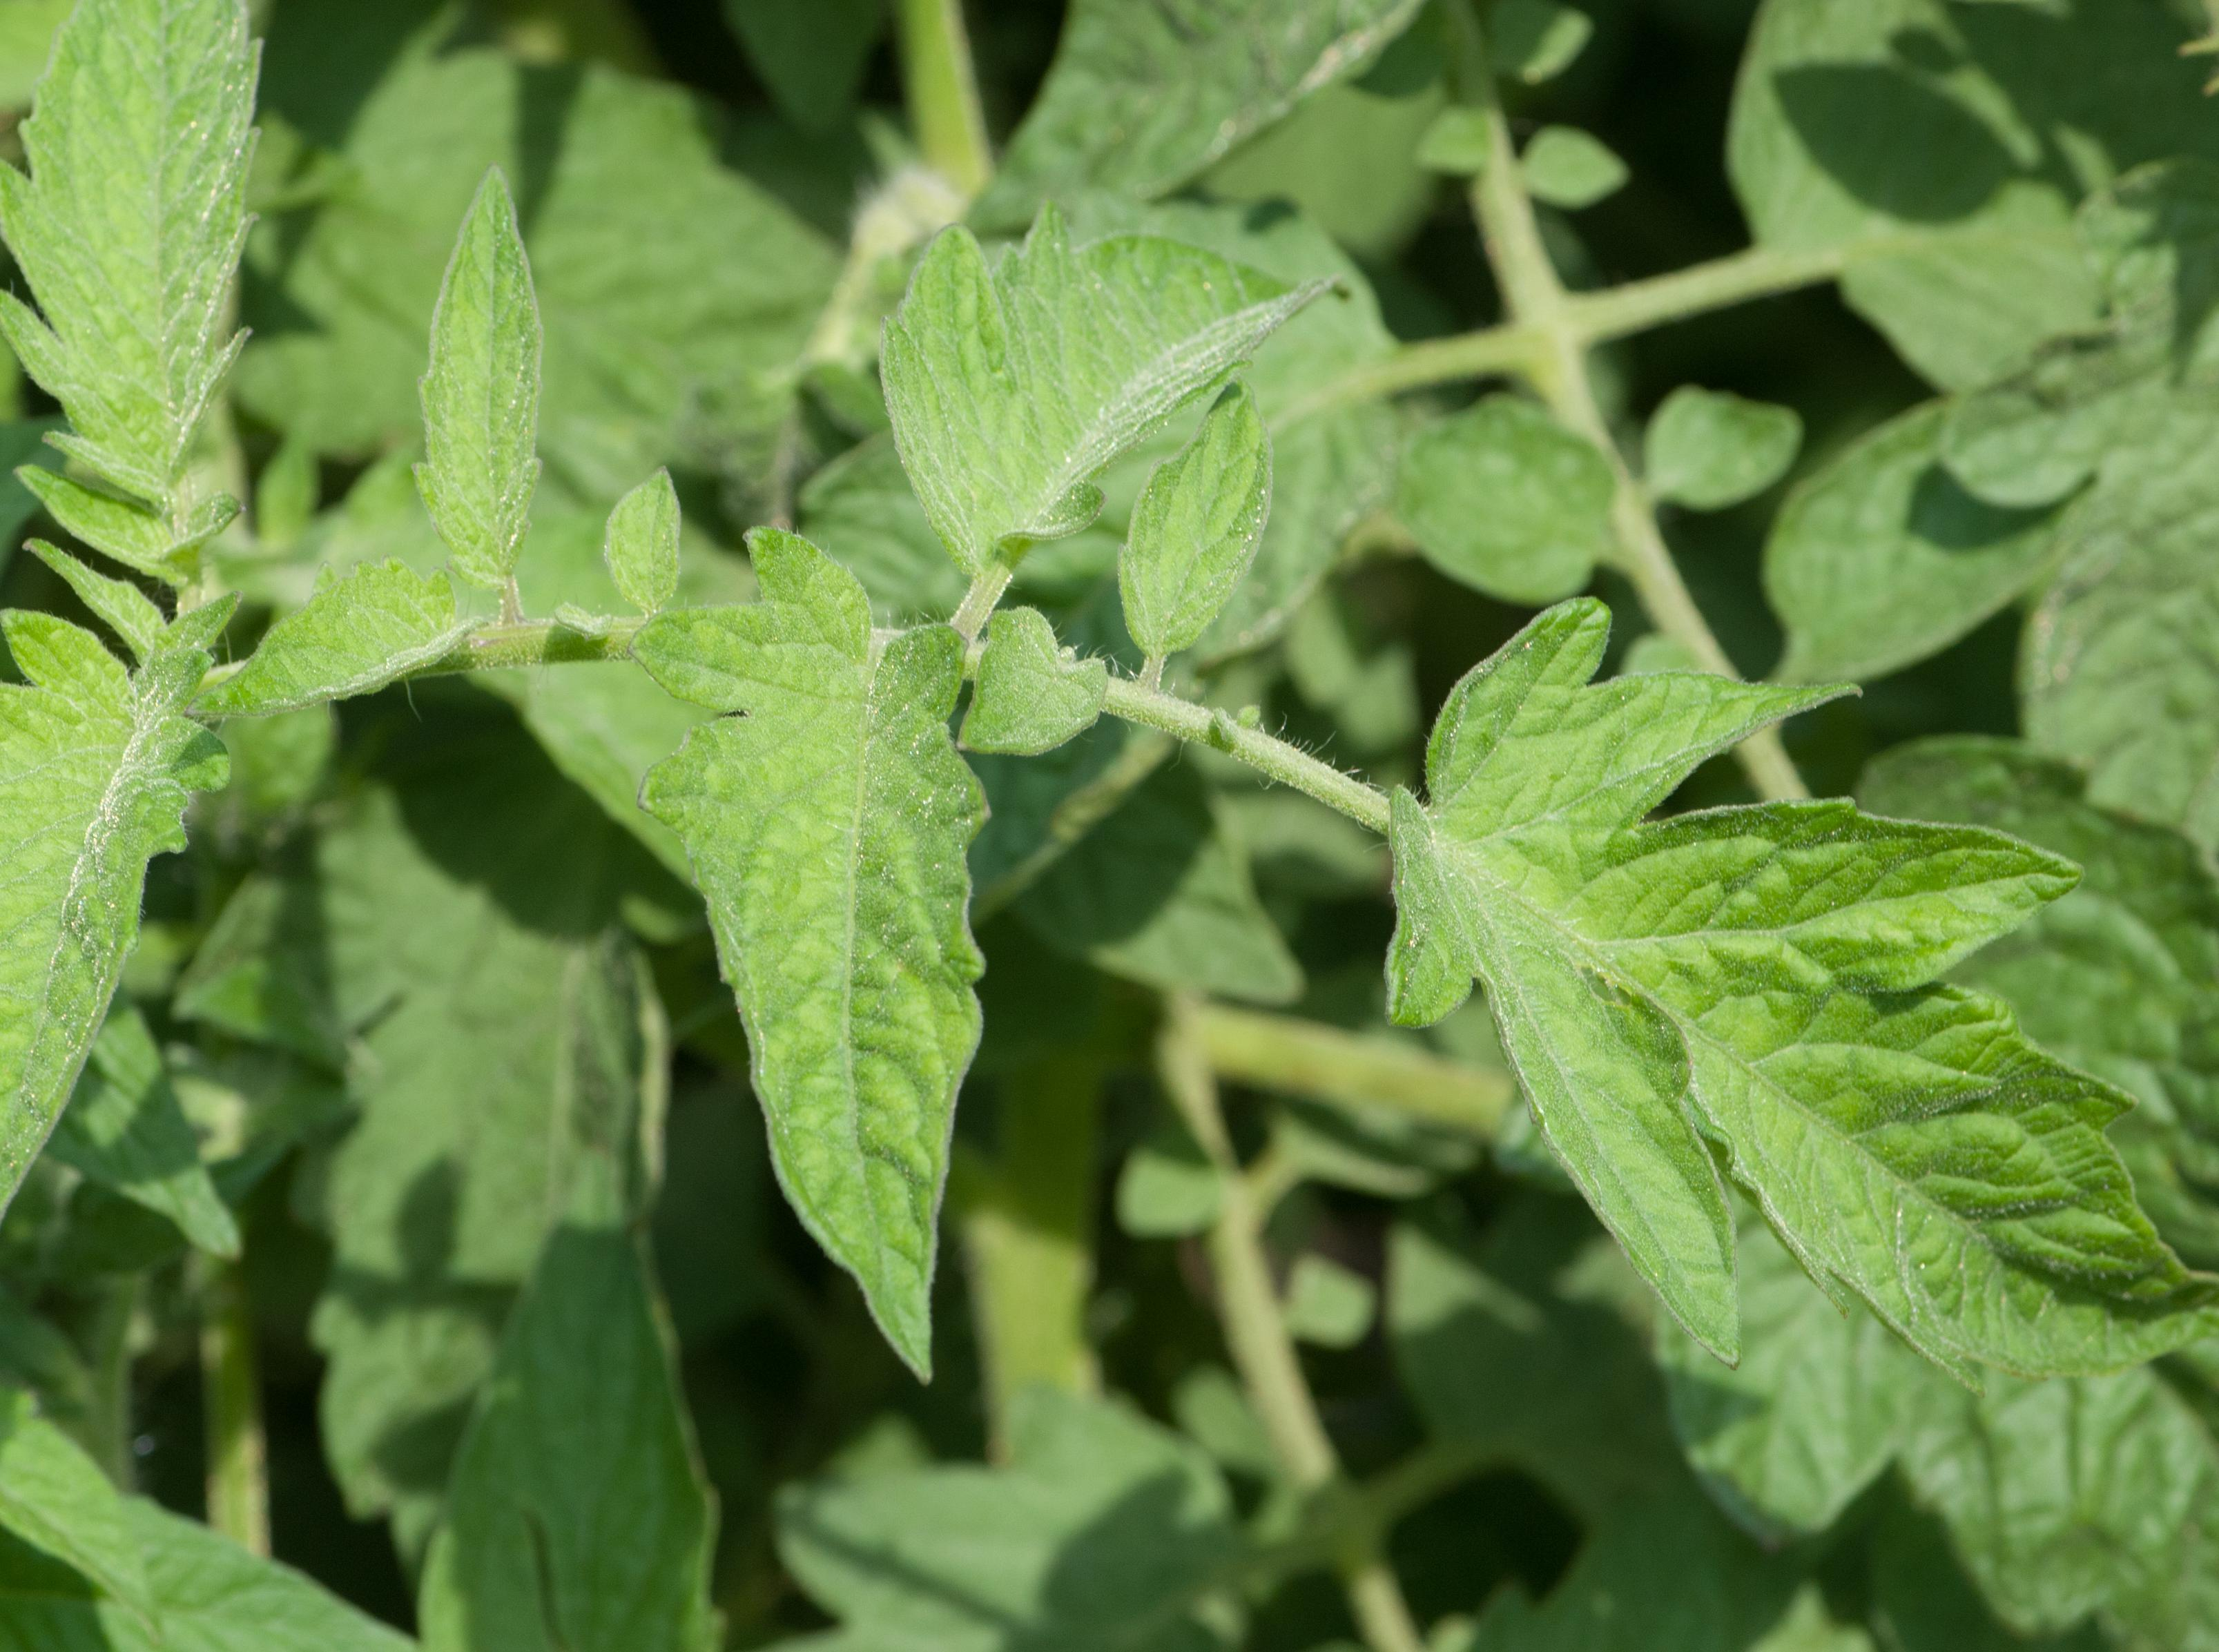Tomato leaf: (1199, 663, 2212, 1402), (586, 498, 985, 1409), (847, 141, 1357, 663), (0, 541, 285, 1347)
